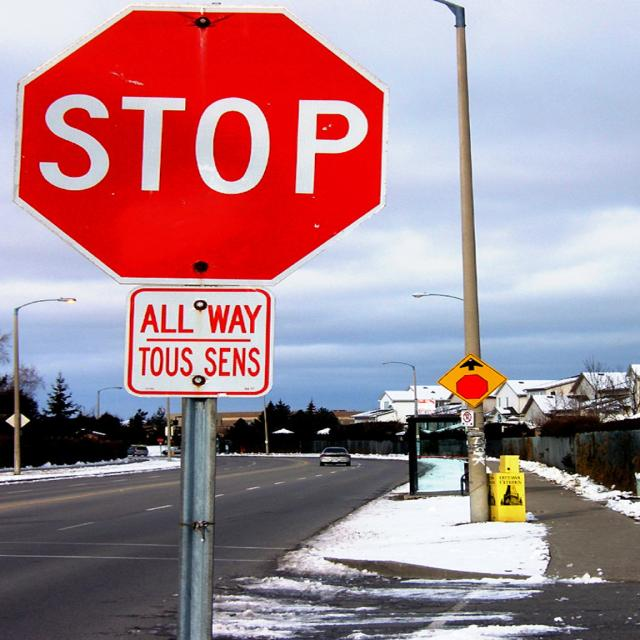Stop-sign: (10, 4, 388, 282)
